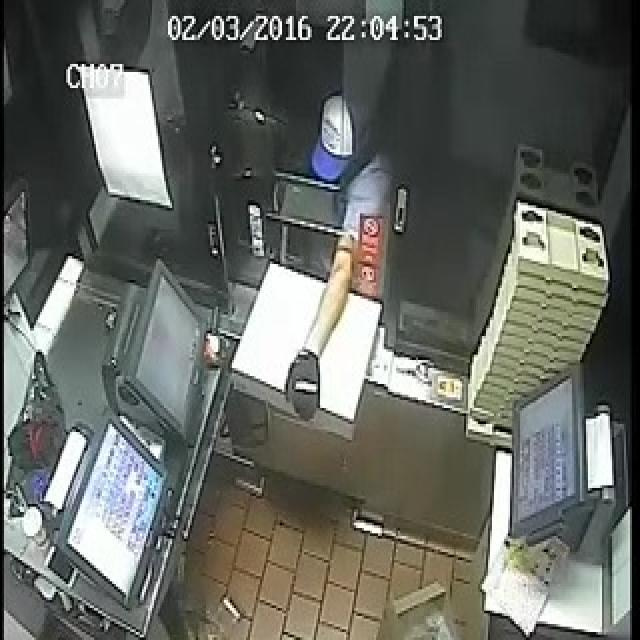thief: (298, 70, 389, 213)
